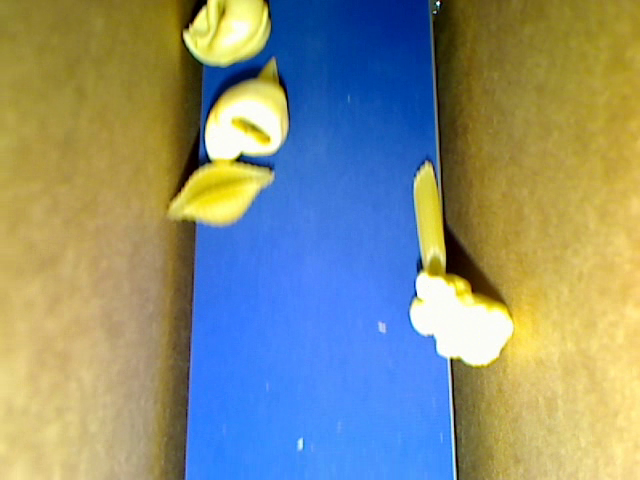penne: (412, 159, 446, 277)
shell: (167, 159, 274, 228)
tortellini: (205, 56, 289, 161), (183, 1, 272, 69)
